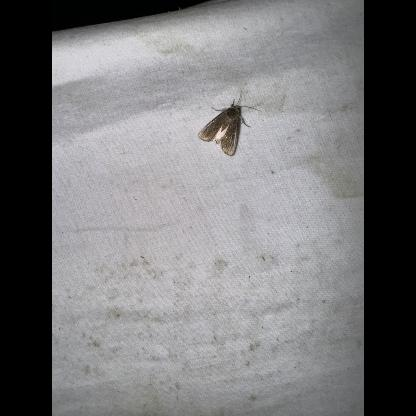Fall Armyworm Moth: (196, 89, 262, 157)
